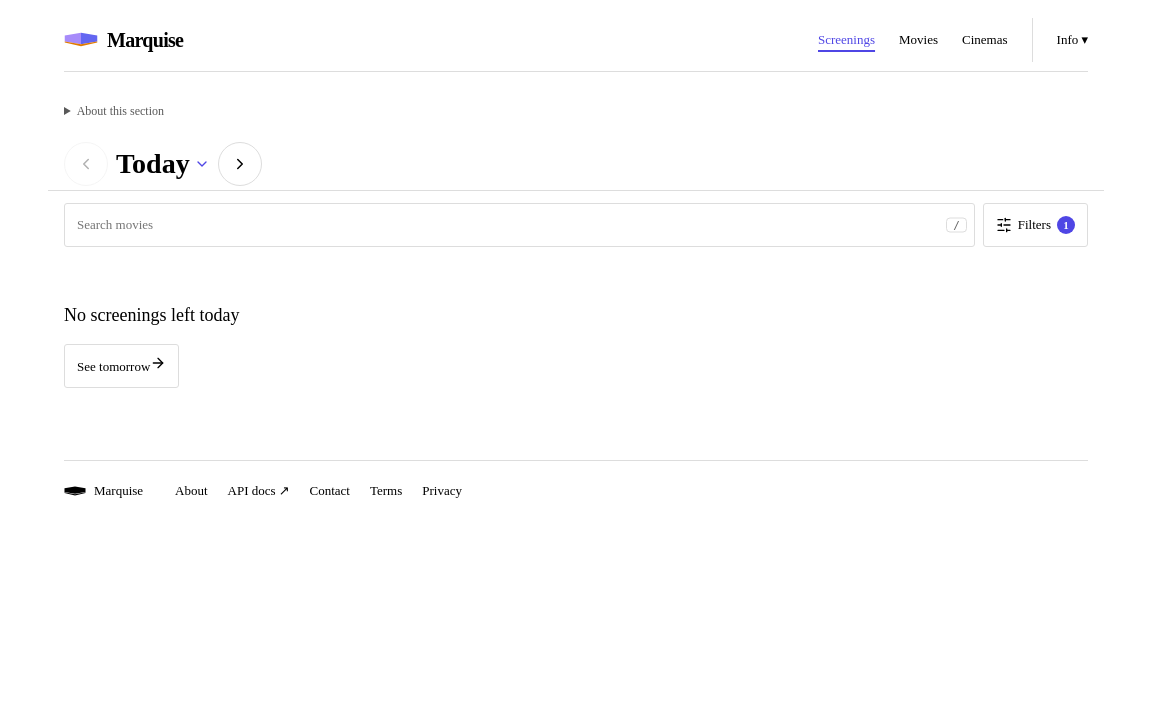
MinimalExperience phone sheet › counts the movies matching the sheet's draft before it is applied
This screenshot has width=1152, height=720.
Click the button with aria-label "Filters (1 active)".
click(1035, 225)  # box [983,203,1088,247]
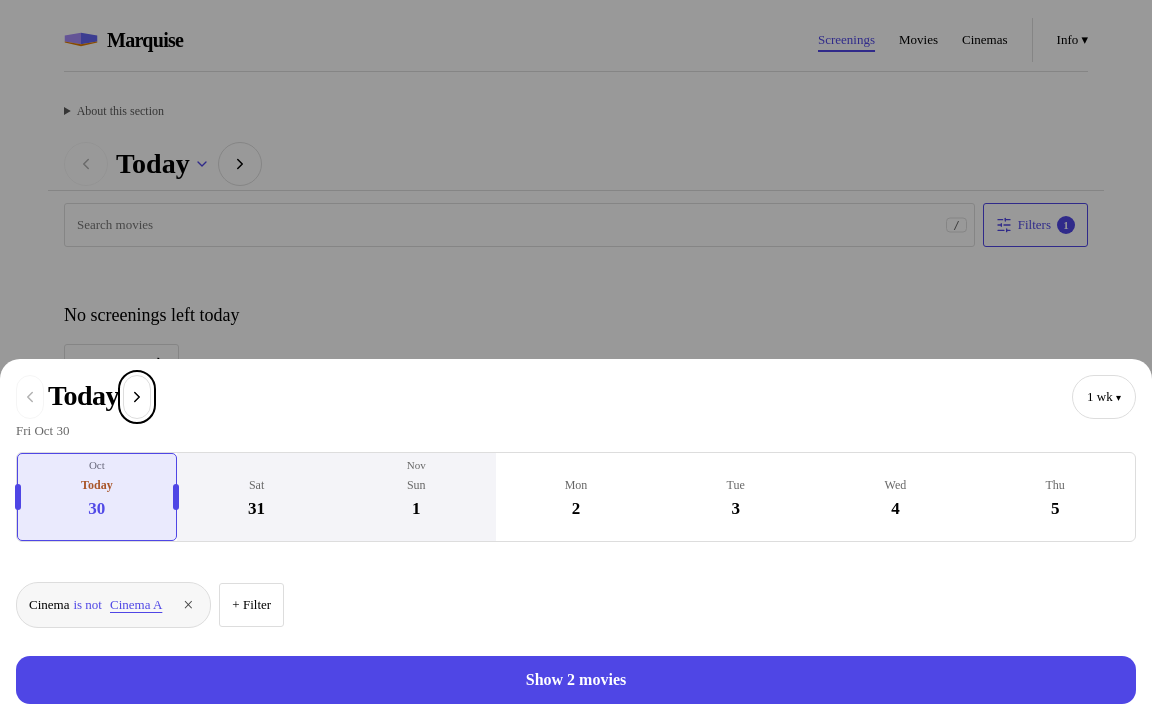
Now the button "Show 2 movies" is shown, box [16,656,1136,704]
Click the button named "Remove cinema filter".
click(188, 605)  # box [166,583,210,627]
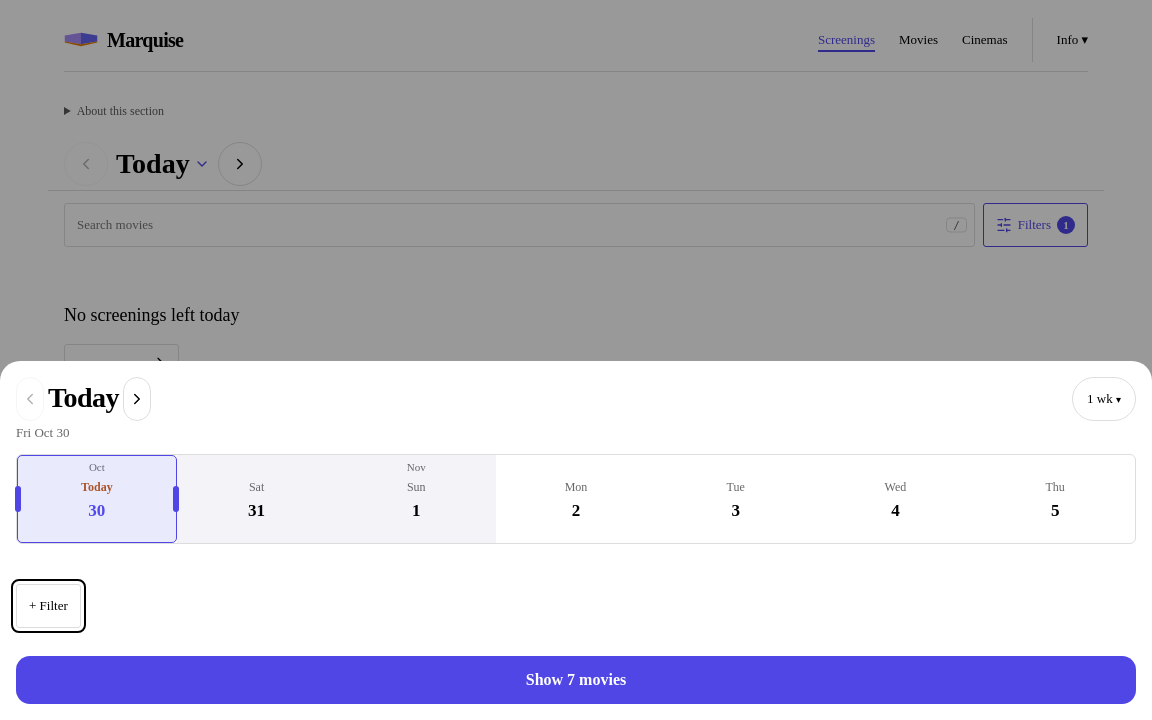
Now the button "Show 7 movies" is shown, box [16,656,1136,704]
